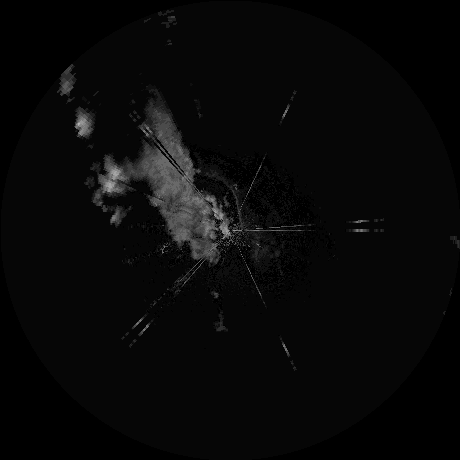frontgust: (229, 186, 243, 224)
